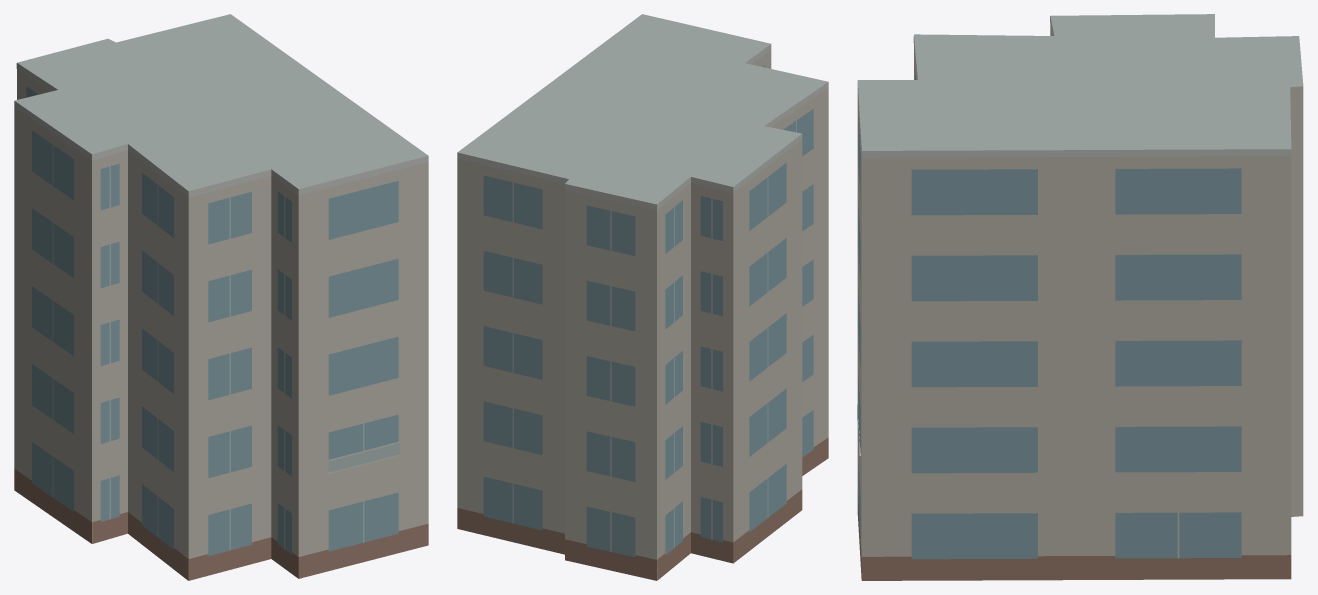
File: survey-upis-32997636.glb
3 views of the same model, side by side, from view 1: azimuth 30°, elevation 25°; view 2: azimuth 150°, elevation 25°; view 3: azimuth 270°, elevation 25° (orthographic). The views are drawn at different scales.
Parts seen in each view (by area): view 1: survey-upis-32997636.tmp; view 2: survey-upis-32997636.tmp; view 3: survey-upis-32997636.tmp.
Boxes of the visible parts, box(x1,y1,x2,y2) form: survey-upis-32997636.tmp: box(14, 14, 428, 580); survey-upis-32997636.tmp: box(457, 14, 828, 580); survey-upis-32997636.tmp: box(857, 14, 1303, 580).
Size of the model in its own units: 10.33 by 15.11 by 14.21.
